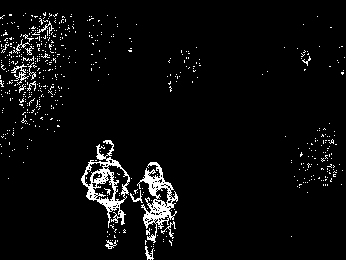person: (127, 156, 180, 260), (83, 137, 131, 249)
